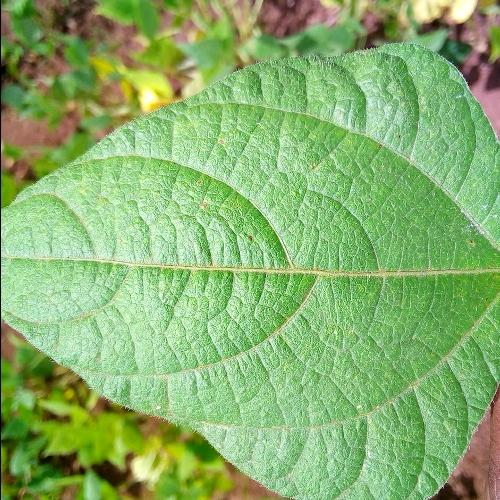mozaik: (307, 92, 474, 442), (162, 114, 280, 406)
